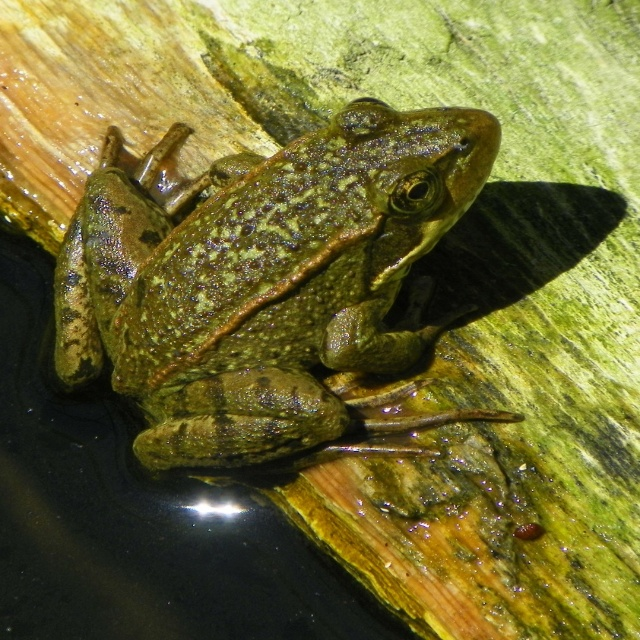Frog: (51, 95, 527, 463)
